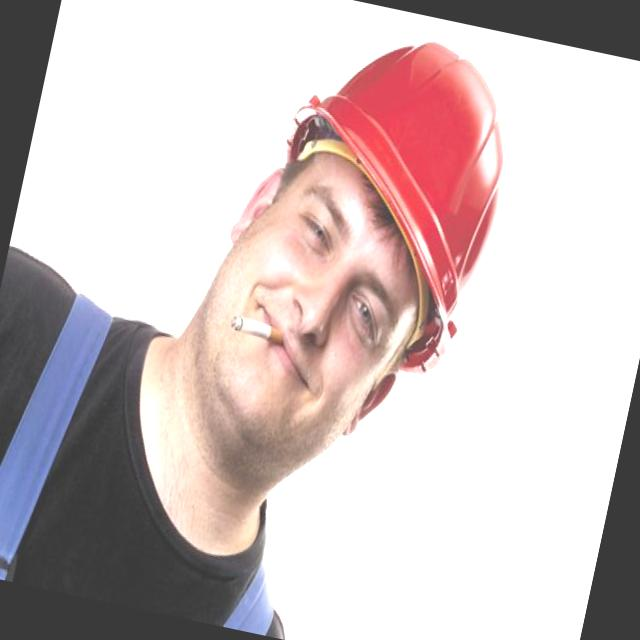cigarette: (227, 307, 290, 351)
